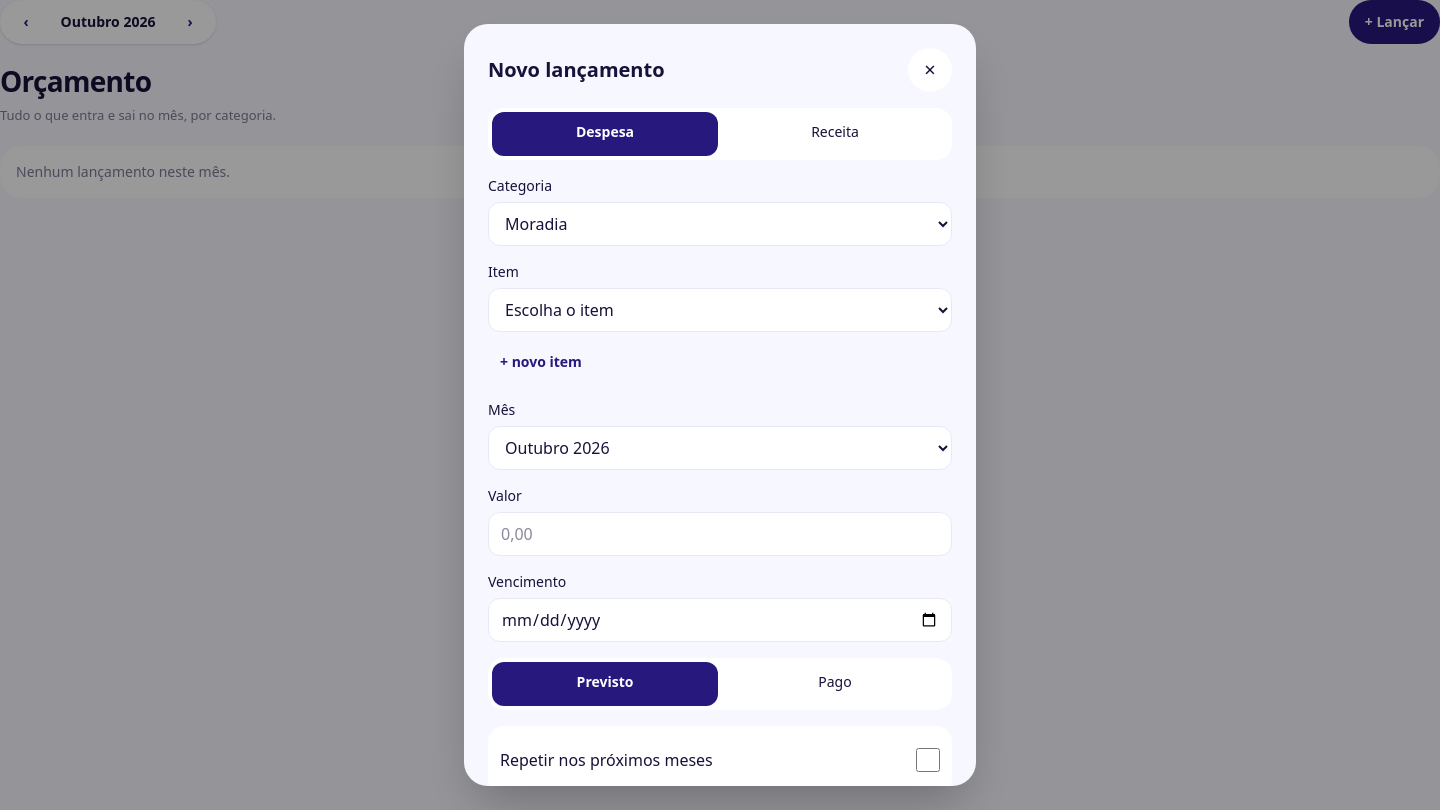
Test case: LancamentoForm (novo) › form_envia_put_com_valor_convertido
Select "Luz" in the dropdown labelled "Item" at x=720, y=310, box [488,288,952,332]
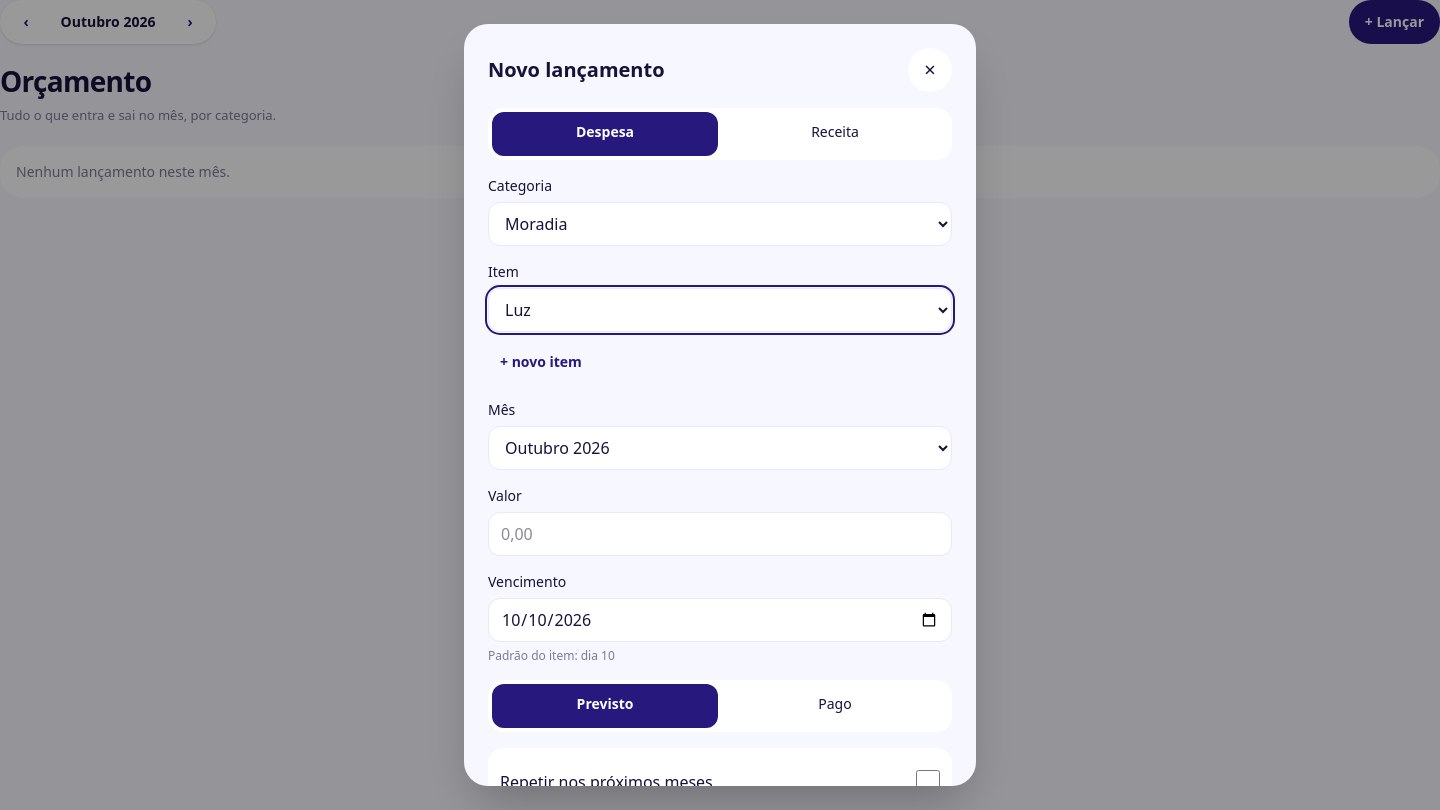
Type "1.234,56" into the field labelled "Valor".
click(720, 534); type("1.234,56")  # box [488,512,952,556]
(page scrolled)
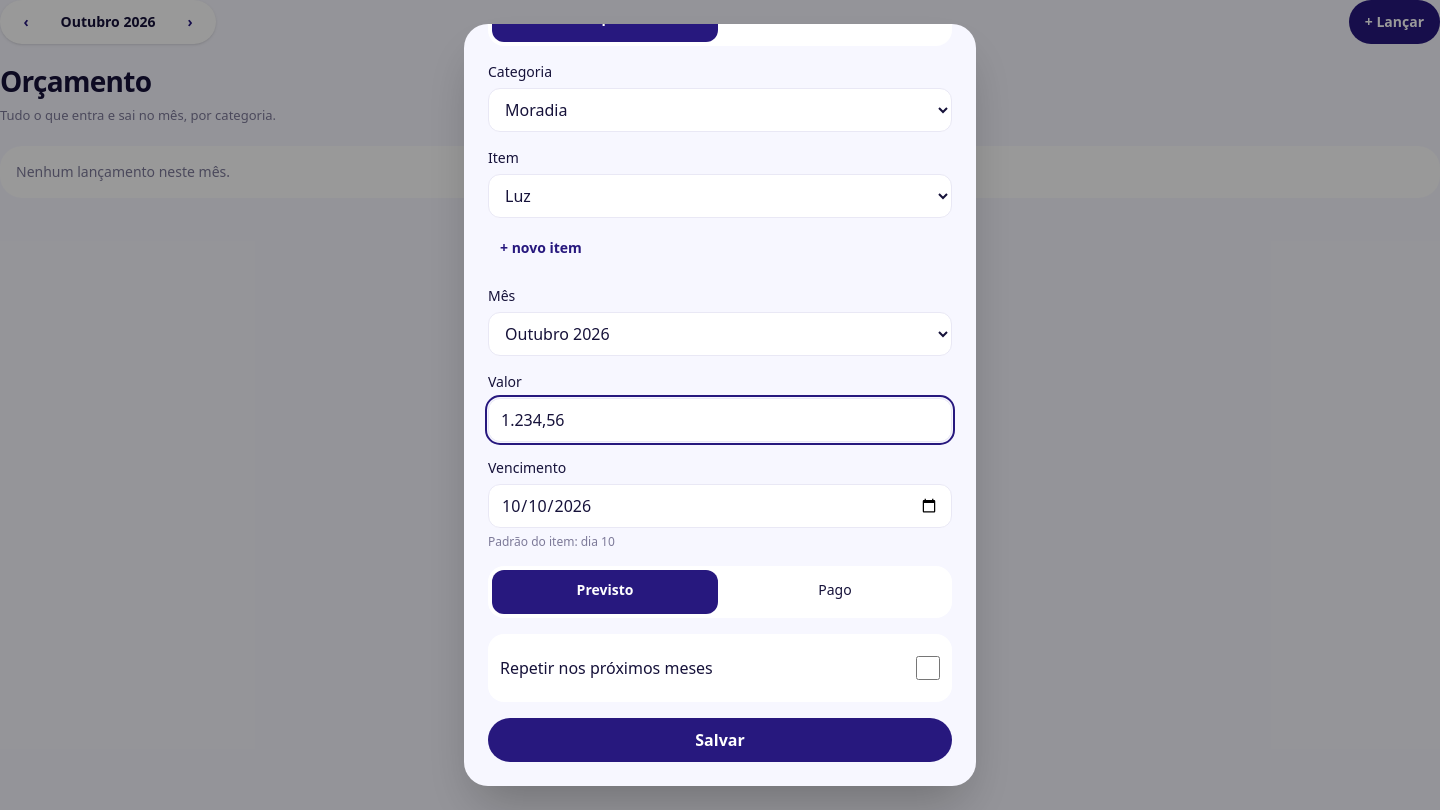
Click the button "Salvar".
click(720, 740)  # box [488,718,952,762]
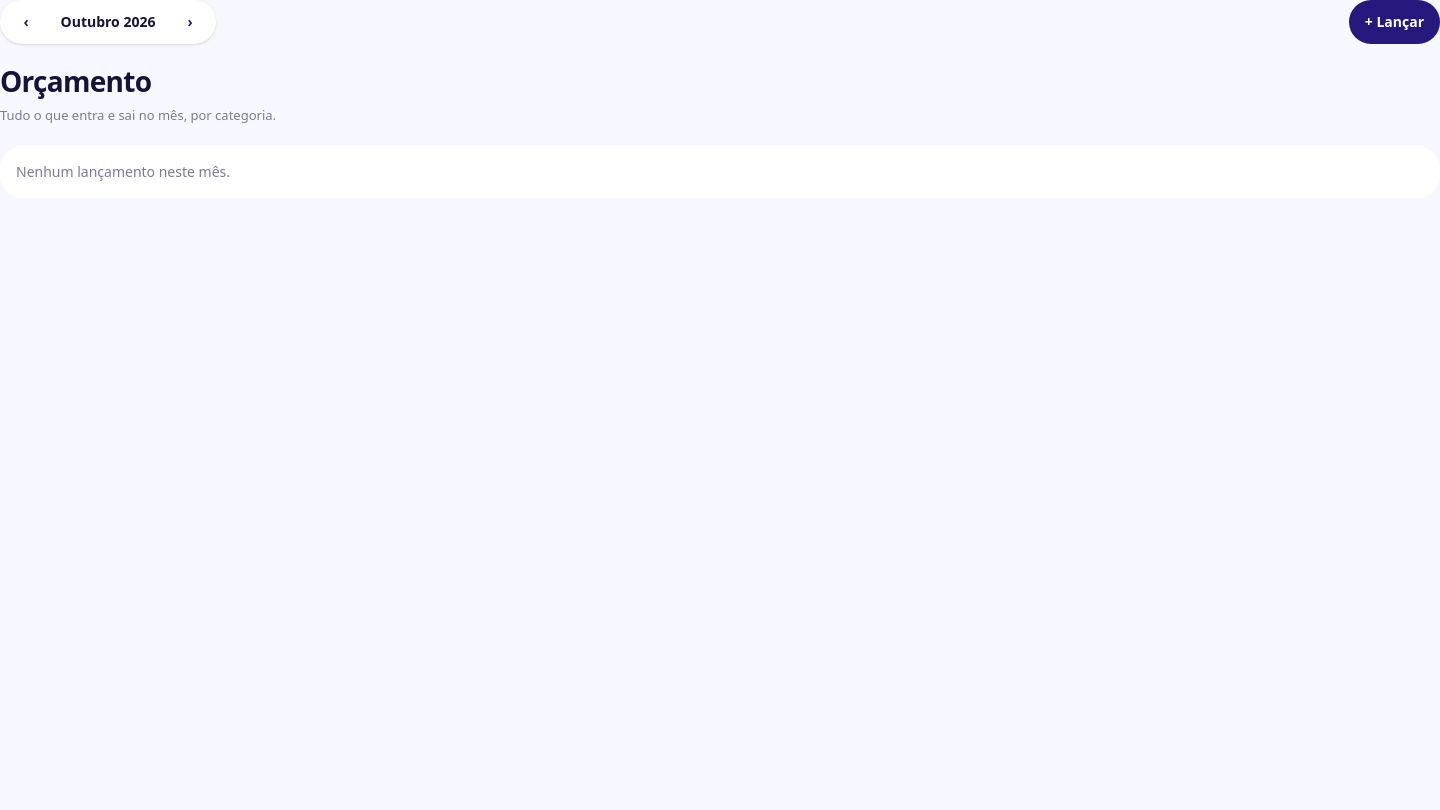
Now the dialog is gone
